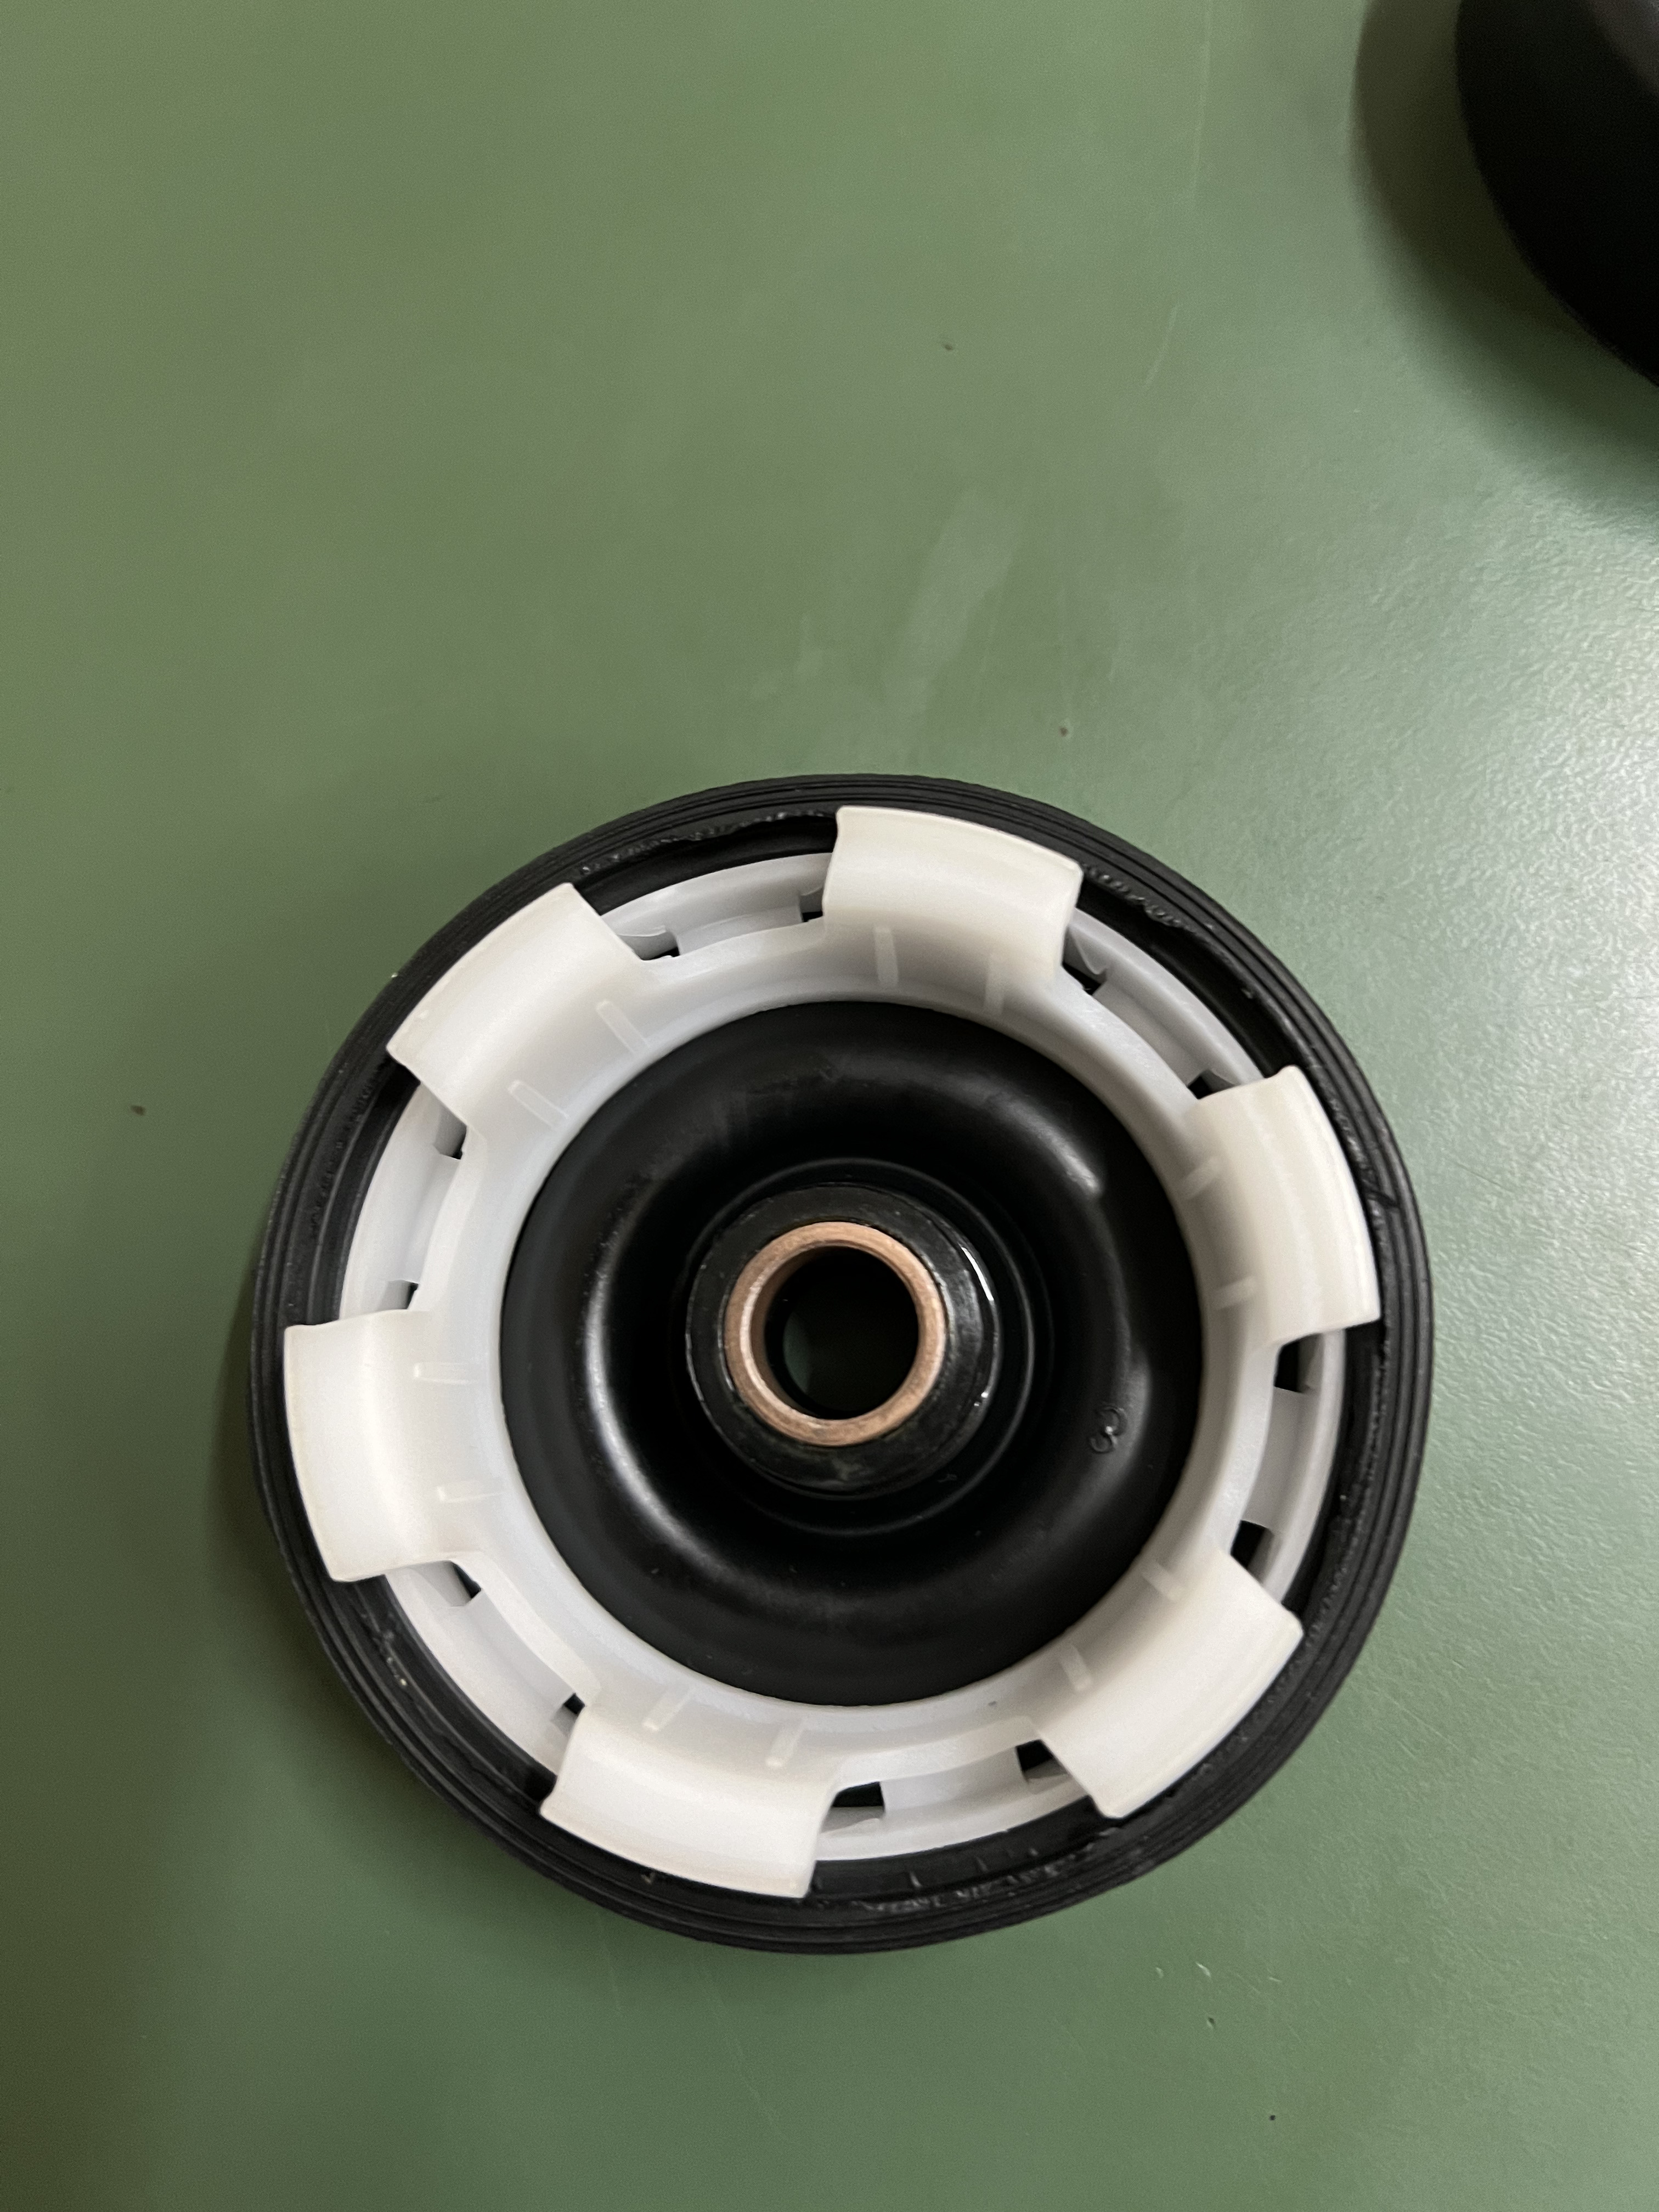lever: (239, 786, 1443, 1949)
